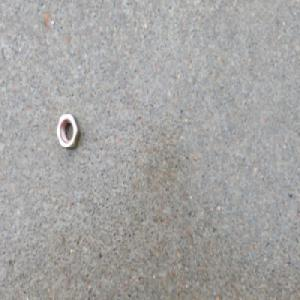Nut: (56, 112, 80, 151)
